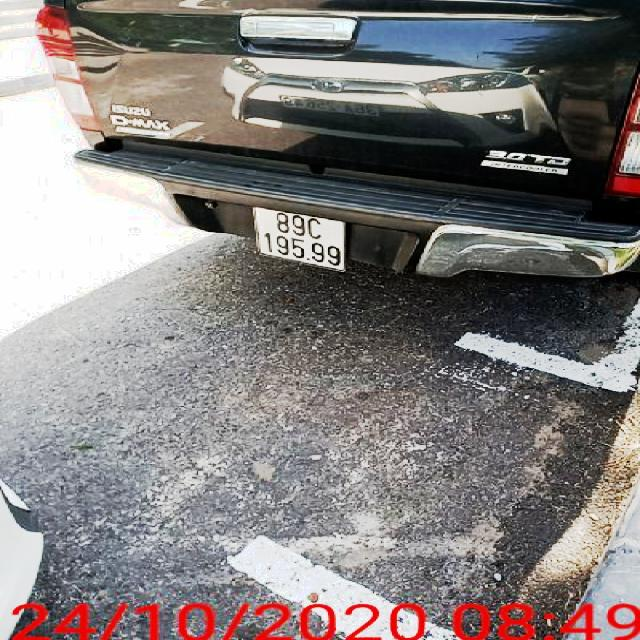license_plate: (256, 208, 346, 273)
